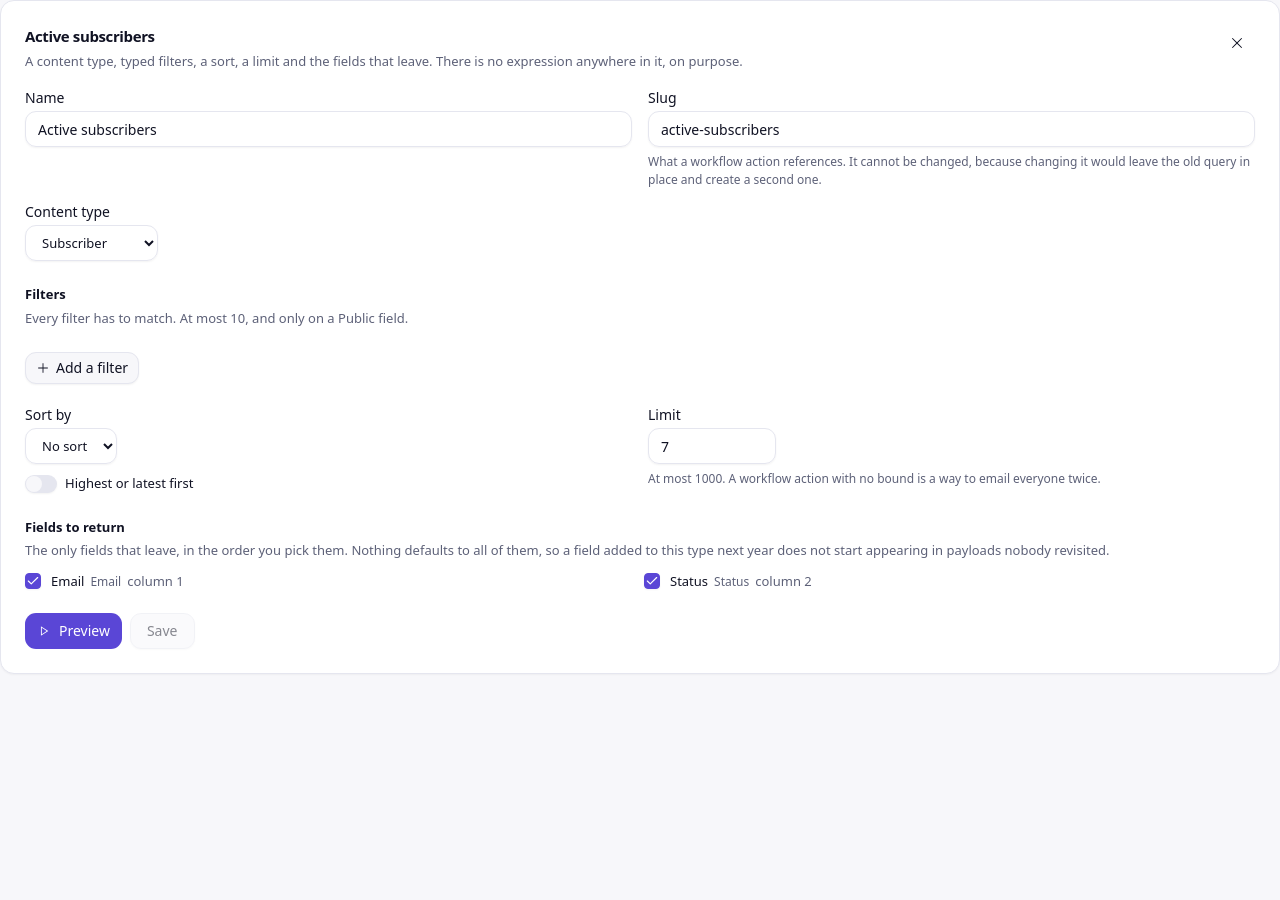
the limit box › refuses an exponent that lands on a fraction
This screenshot has width=1280, height=900.
Replace the text in the number field labelled "Limit" with "1e-1" at (712, 446), box [648,428,776,464]
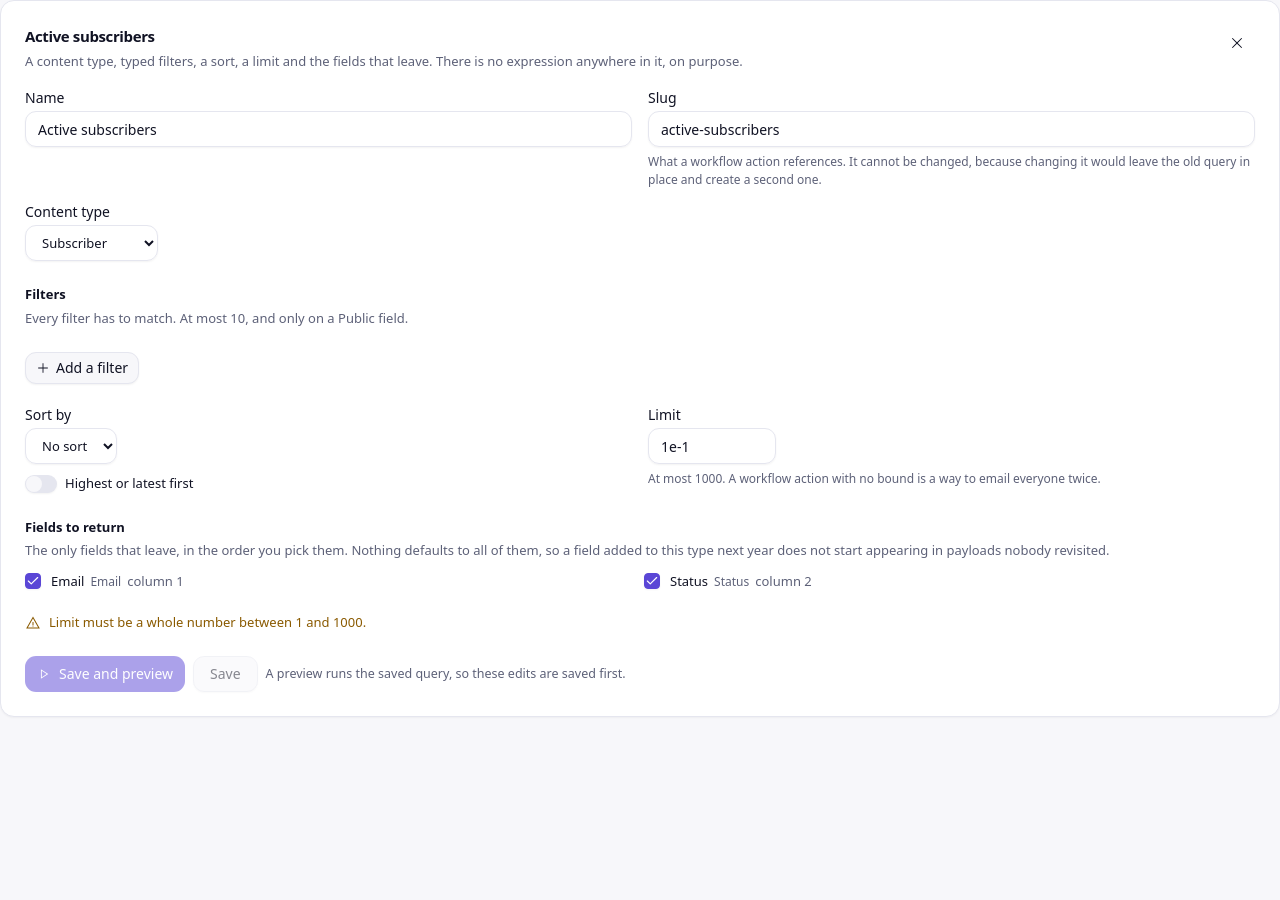
Expected: the button "Save" is disabled, [193,656,258,692]
Now the message shows "whole number", box [49,613,366,631]
